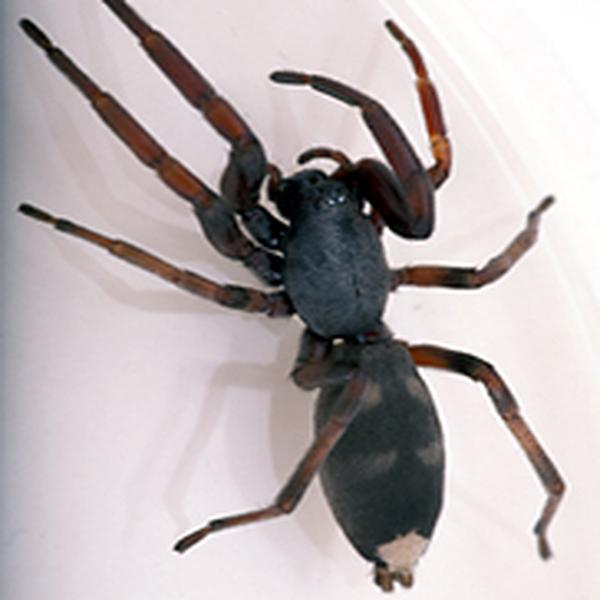White-Tailed Spider: (35, 9, 564, 584)
